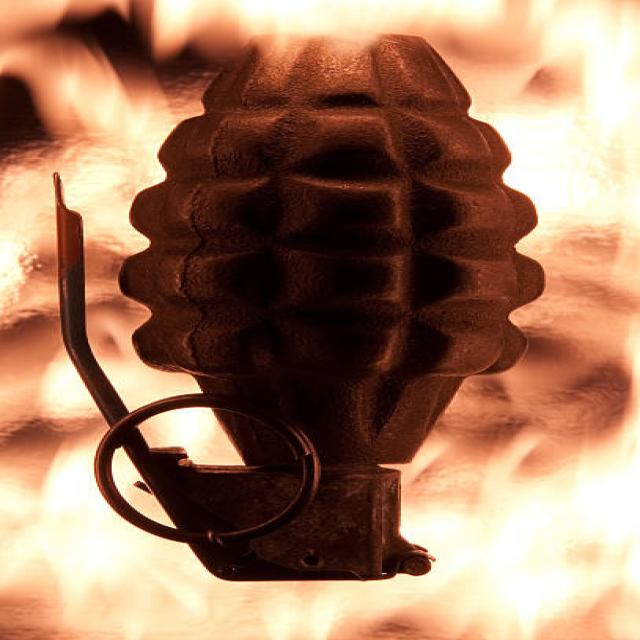grenade: (34, 29, 566, 596)
